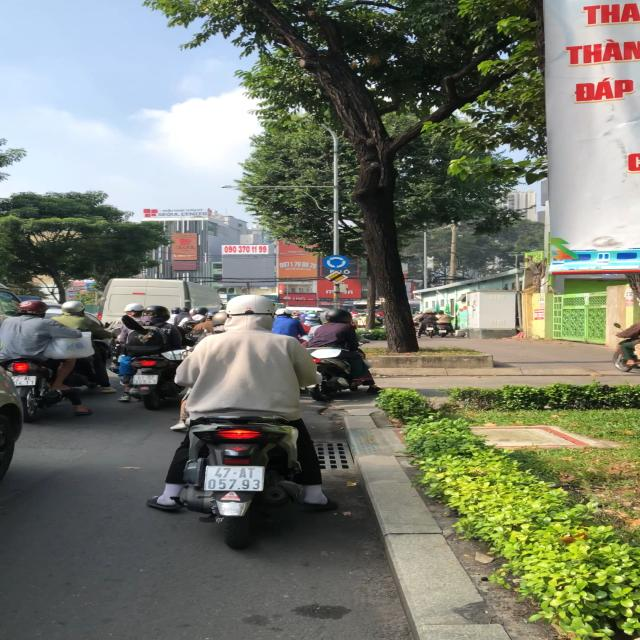Bien bao noi giao nhau chay theo vong xuyen: (319, 252, 350, 271)
